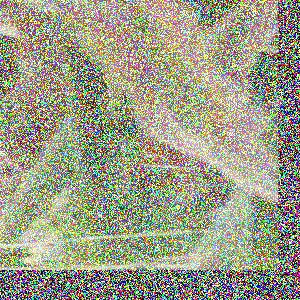Leaf_Blast: (99, 0, 231, 139)
